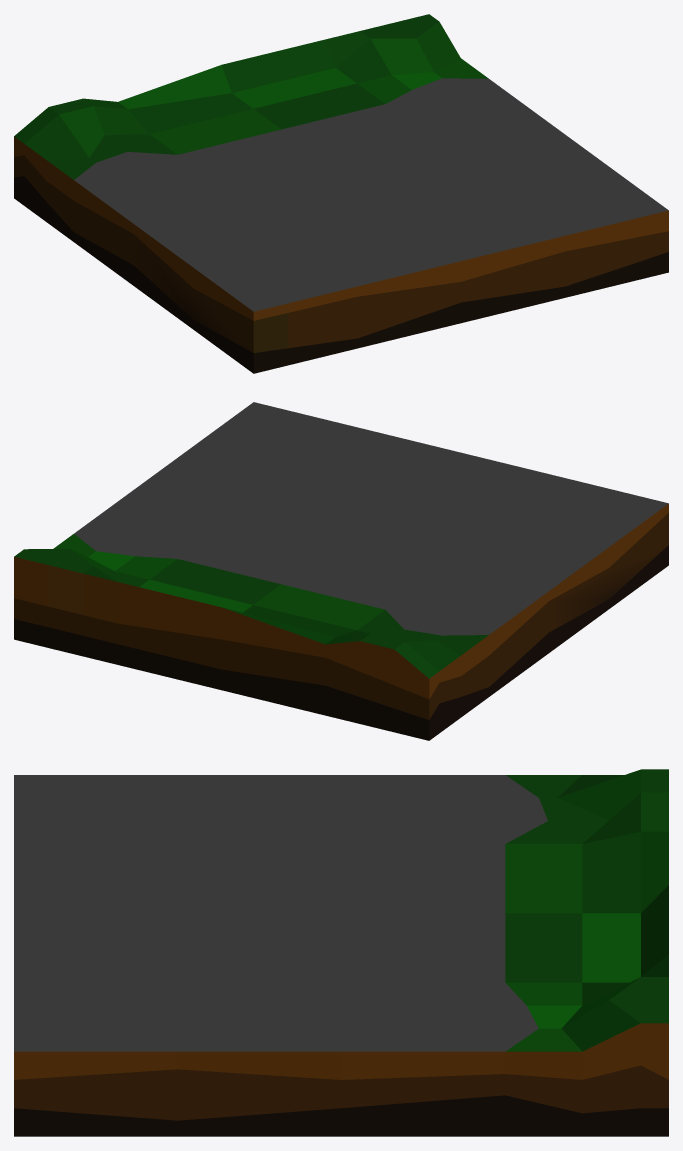
The model's file is SM_terrian_03.FBX.
The picture shows the model from 3 angles, top to bottom: view 1: azimuth 30°, elevation 25°; view 2: azimuth 150°, elevation 25°; view 3: azimuth 270°, elevation 25°; orthographic projection. The views are drawn at different scales.
Parts seen in each view (by area): view 1: terrian03; view 2: terrian03; view 3: terrian03.
Boxes of the visible parts, x1,y1,x2,y2 form: terrian03: (14,14,668,373); terrian03: (14,402,668,740); terrian03: (14,769,668,1136).
Size of the model in its own units: 3500 by 668 by 3500.
